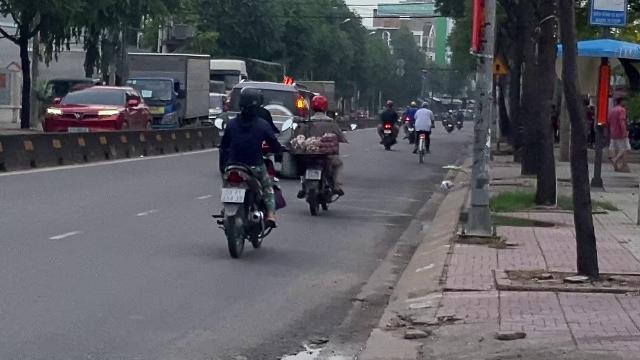helmet: (236, 87, 264, 115), (308, 93, 328, 112)
licenseplate: (222, 188, 244, 202), (306, 169, 320, 179)
motorcyclist: (210, 85, 284, 255), (284, 93, 348, 215)
